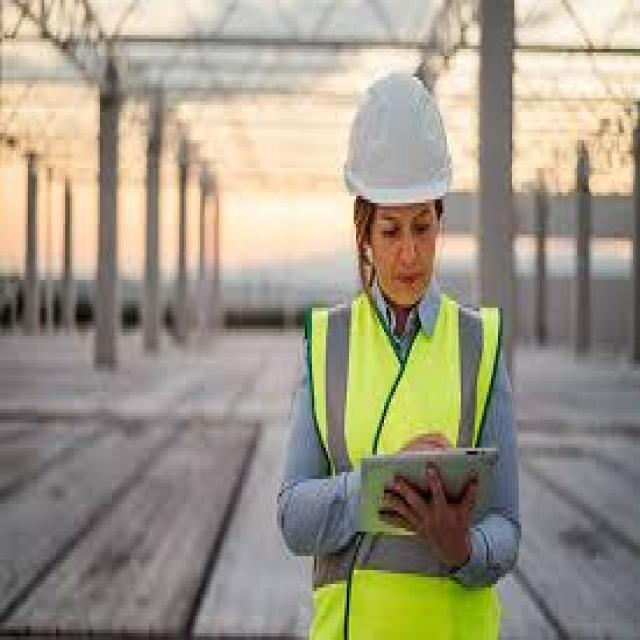Reflective-Jacket: (291, 287, 514, 636)
Safety-Helmet: (330, 63, 461, 220)
